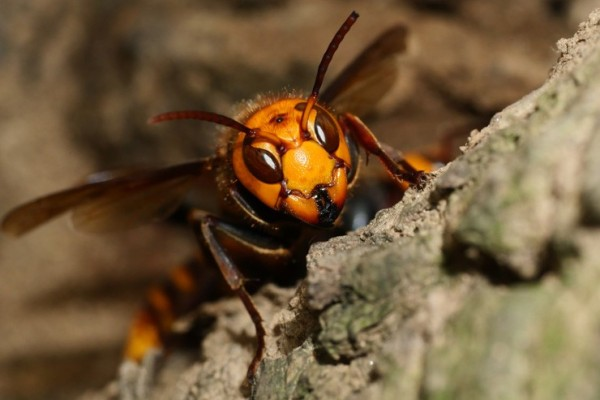asian_giant_hornet: (1, 11, 416, 310), (125, 236, 253, 357)
